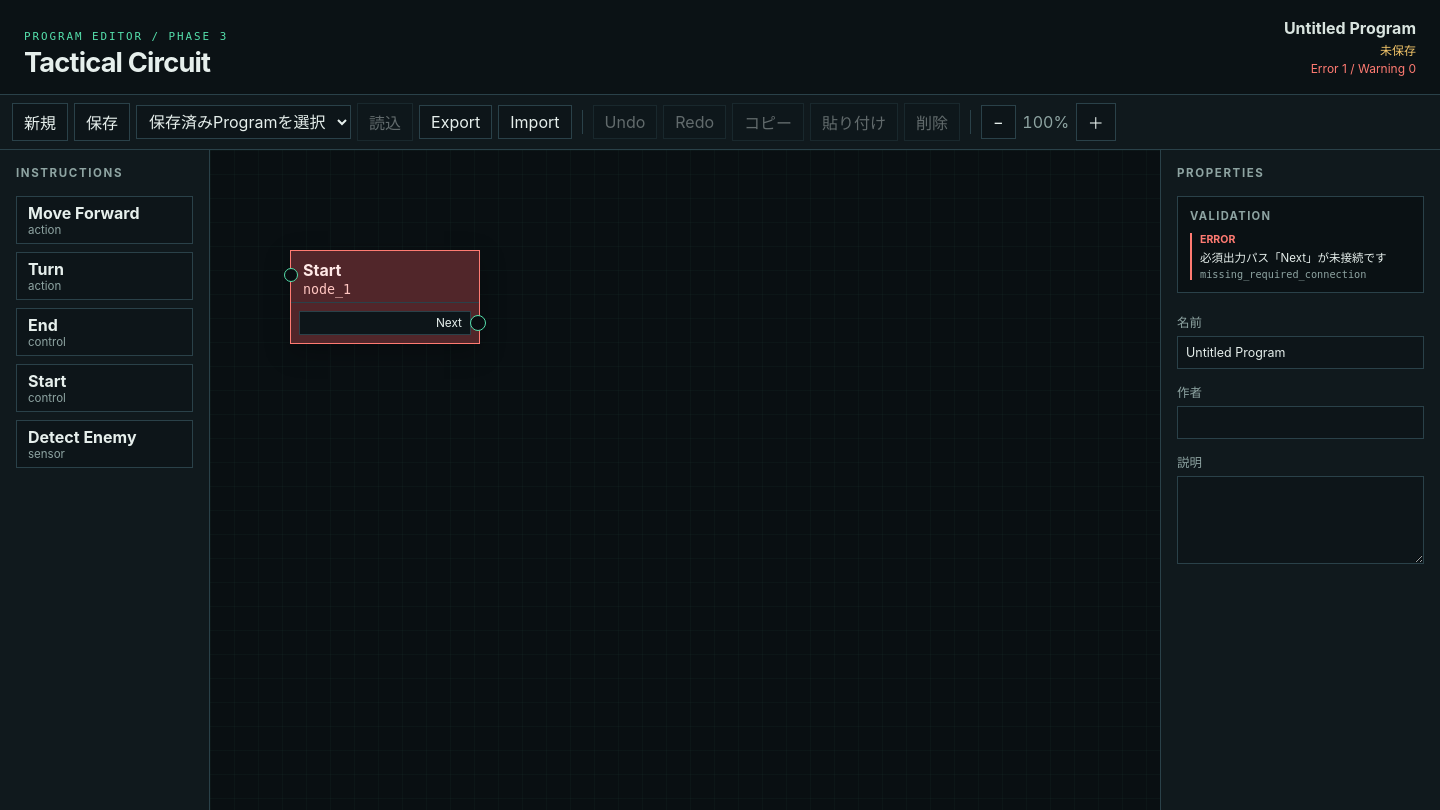
Scenario: ProgramEditor › 編集後の診断集計を更新し、診断対象Nodeを強調する
Check: the text "Error 1 / Warning 0" is shown, box [1311,61,1416,76]
Check: the text "Error" is shown, box [1200,233,1235,246]
Click the button with aria-label "node_1の診断を表示" at (1306, 257), box [1200,249,1411,265]
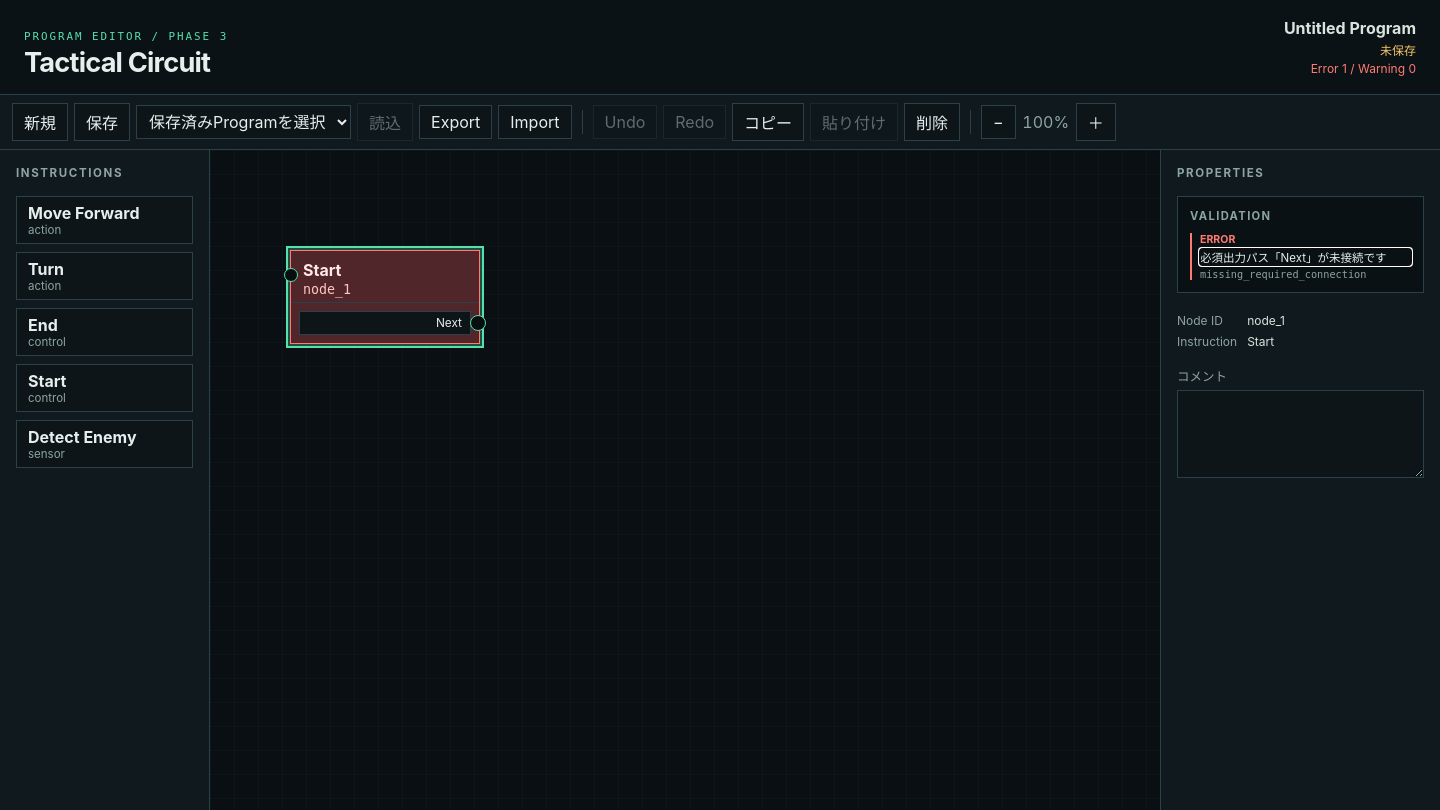
Check: the element showing "Start node_1 Next" is shown, box [290,250,480,344]
Click the button named "Endcontrol" at (104, 332), box [16,308,193,356]
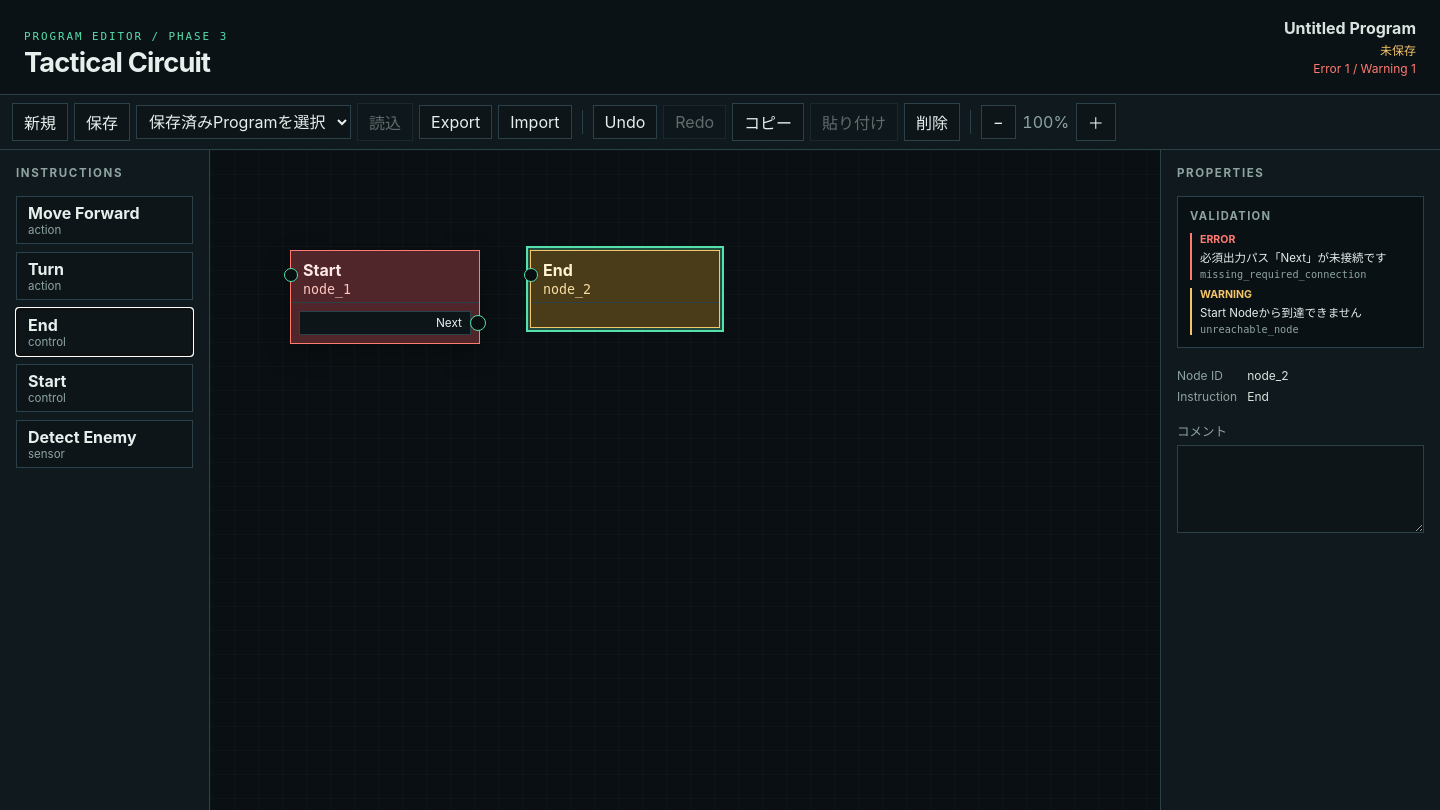
Press the mouse on the button "Next" at (385, 323), box [299,311,471,335]
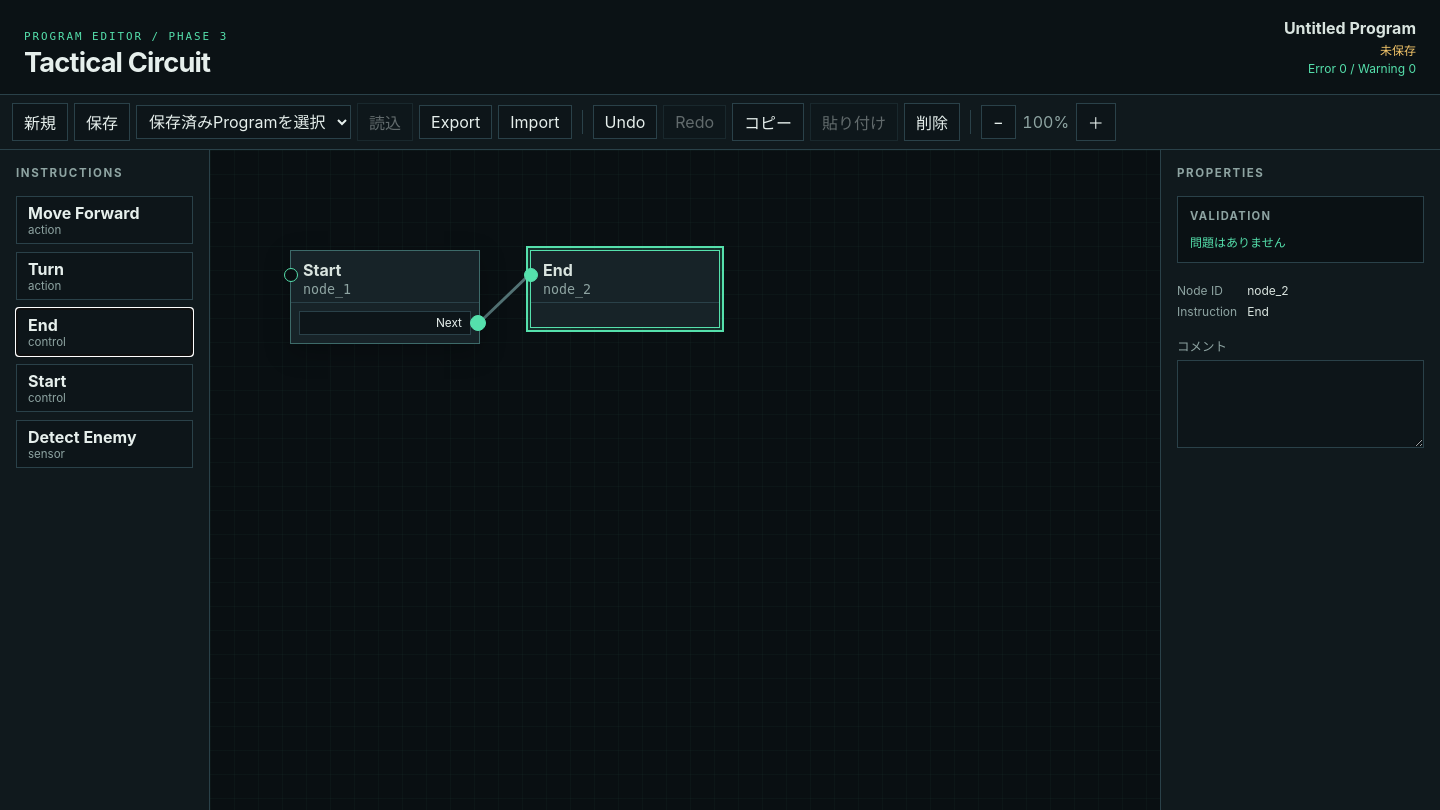
Check: the text "Error 0 / Warning 0" is shown, box [1308,61,1416,76]
Check: the text "問題はありません" is shown, box [1190,235,1286,250]
